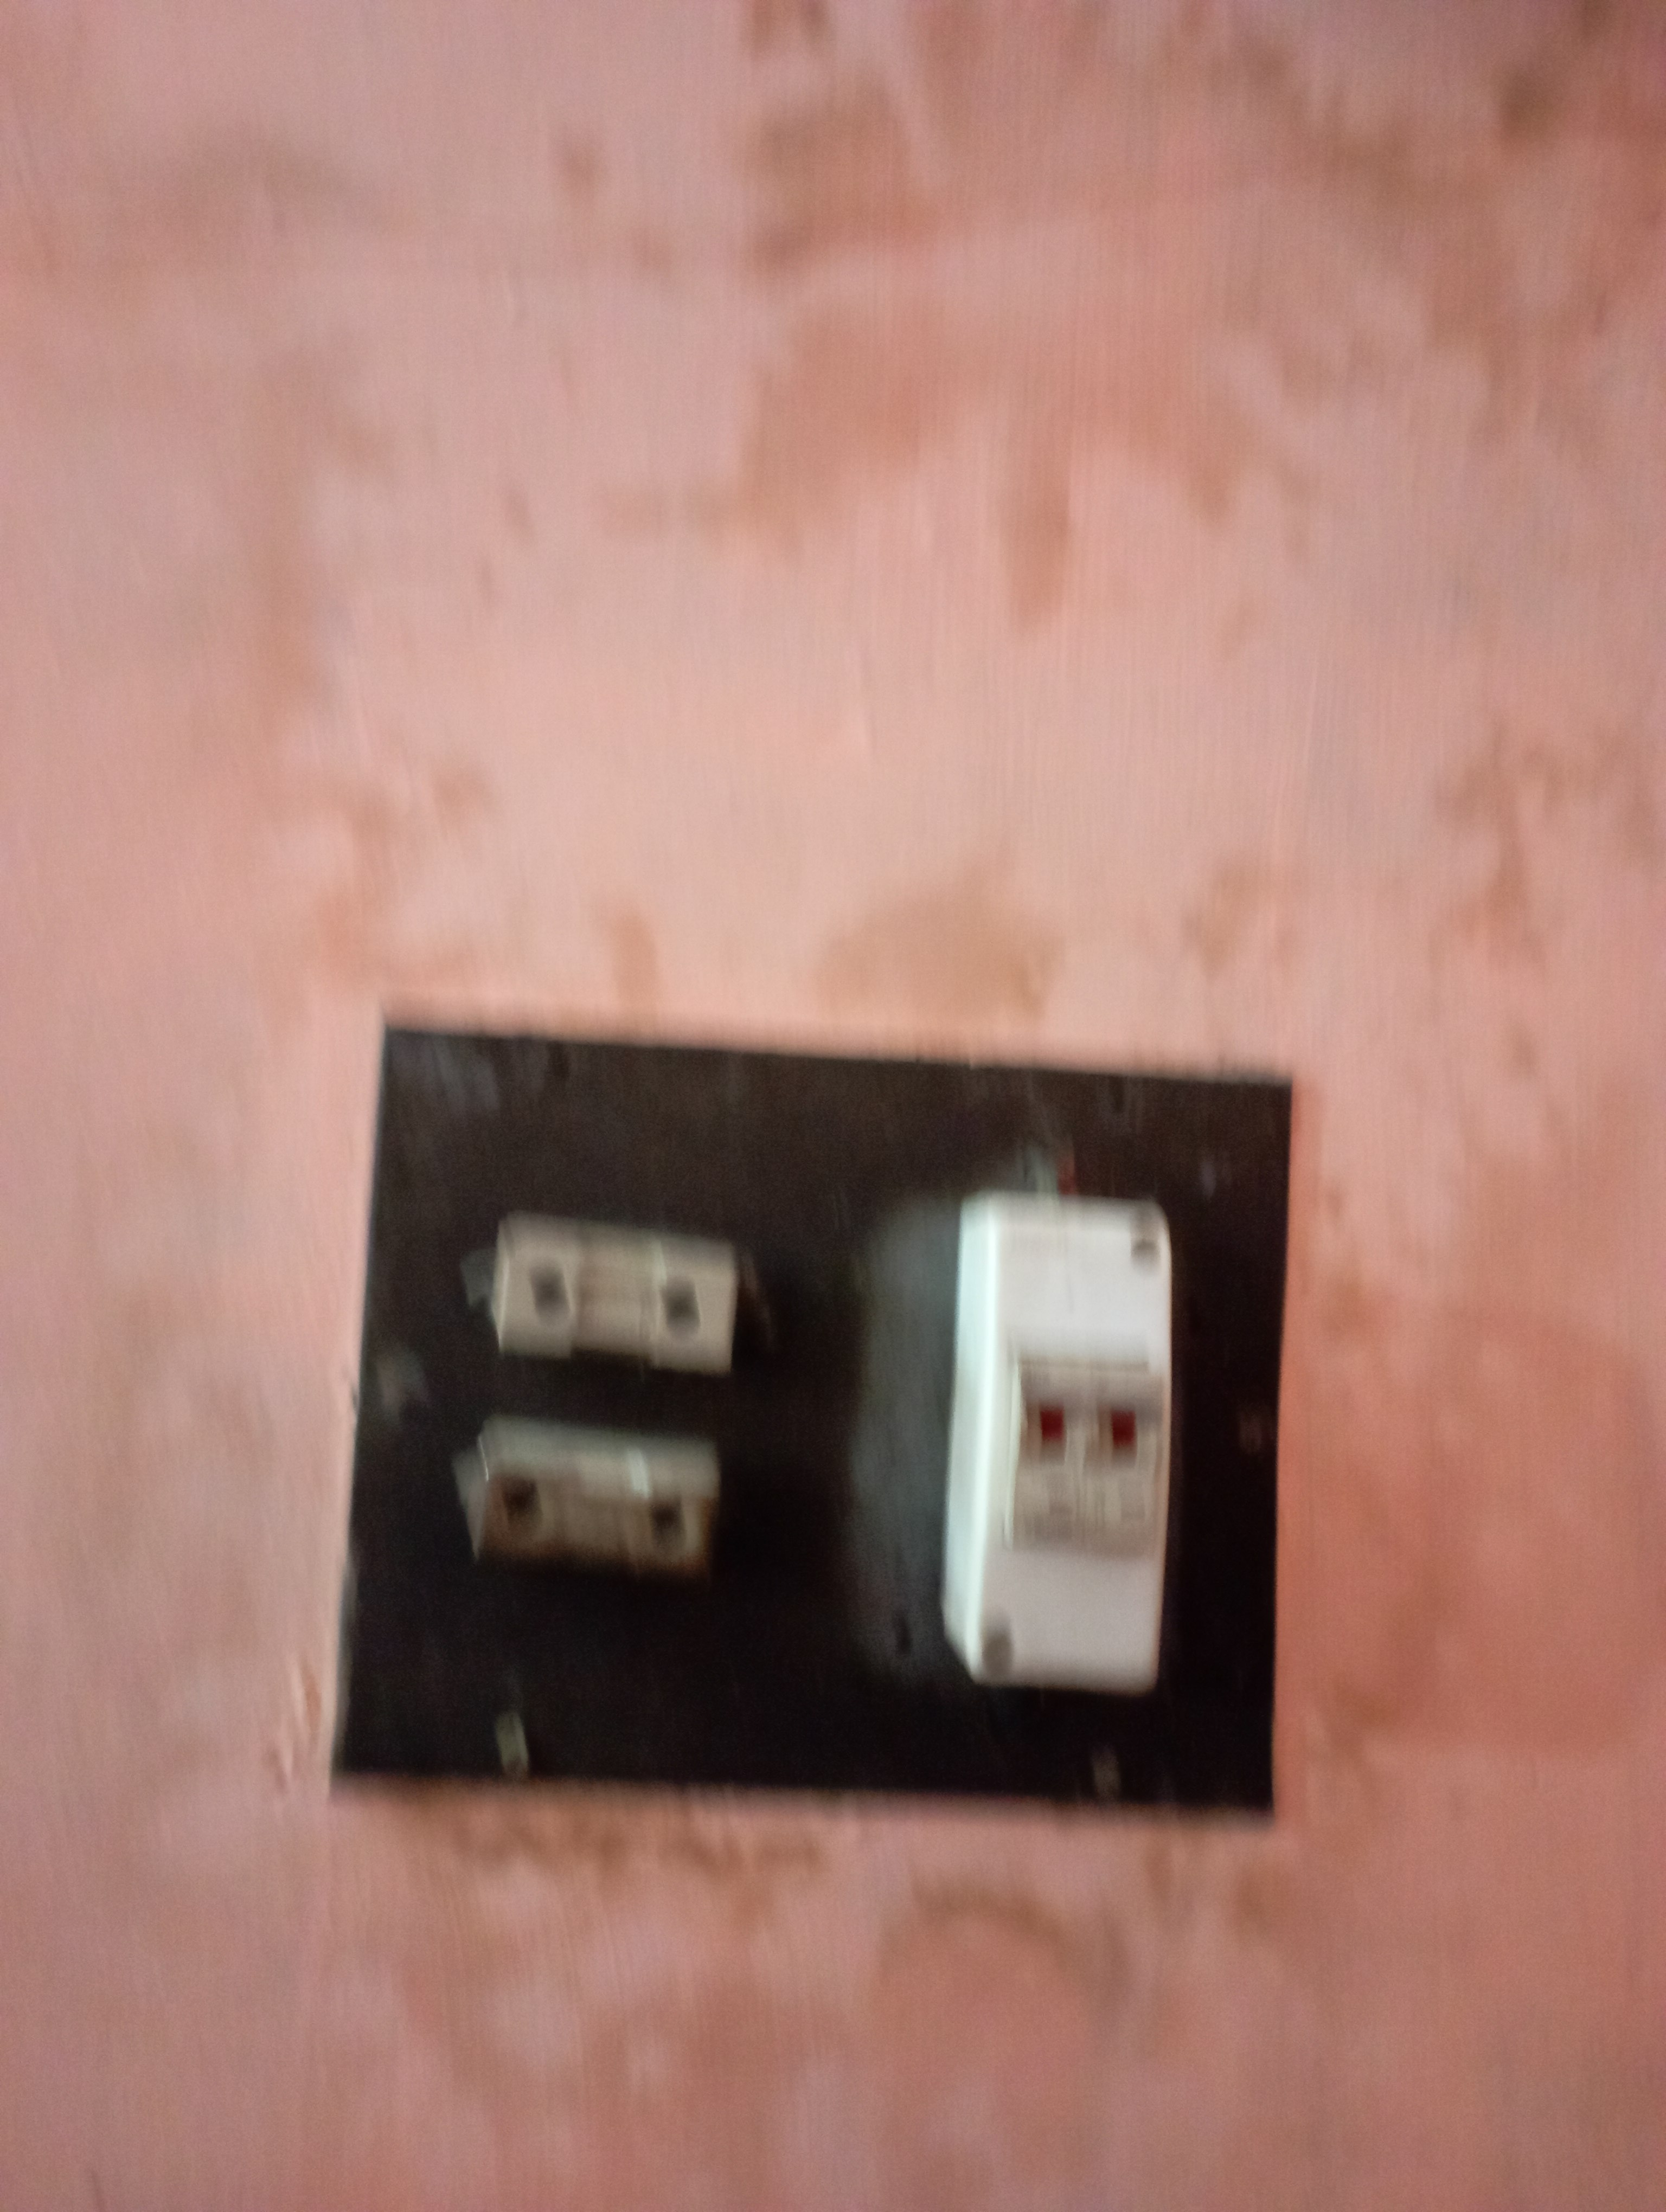ciruit_breaker: (922, 1186, 1185, 1701)
fuse: (436, 1203, 775, 1371), (450, 1409, 728, 1569)
